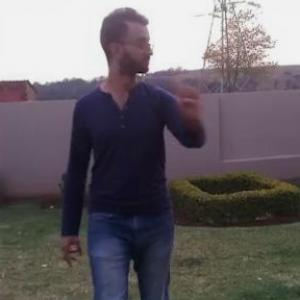takeoff-hand: (168, 66, 208, 118)
